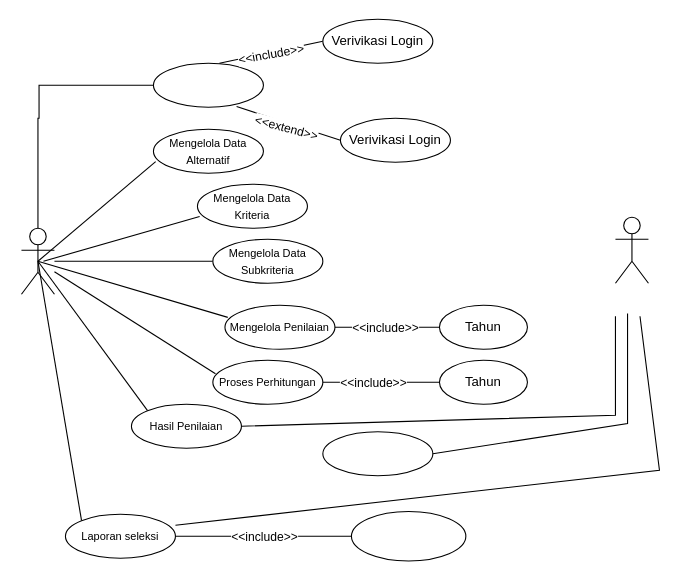
Image size: 696x581. Some labels were removed from this diagram. Each missing label, with the box of its shape:
Admin: (20, 227, 54, 294)
Cetak Data Hasil Seleksi: (350, 510, 466, 561)
Kepala Sekolah: (614, 216, 648, 283)
Login: (152, 62, 263, 107)
Seleksi: (322, 431, 433, 476)
